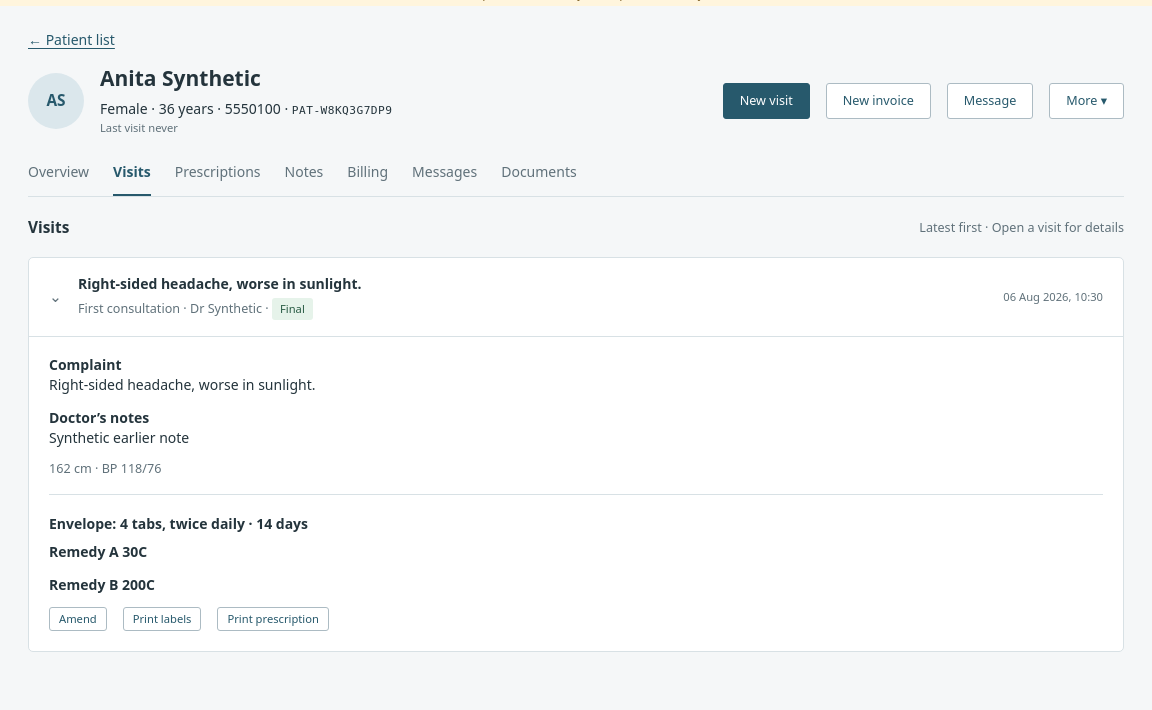
Test case: writing a visit › adds an amendment beside a finalised visit
The image size is (1152, 710).
(page scrolled)
Click the button "Amend" at (78, 619), box x1=49 y1=607 x2=107 y2=631
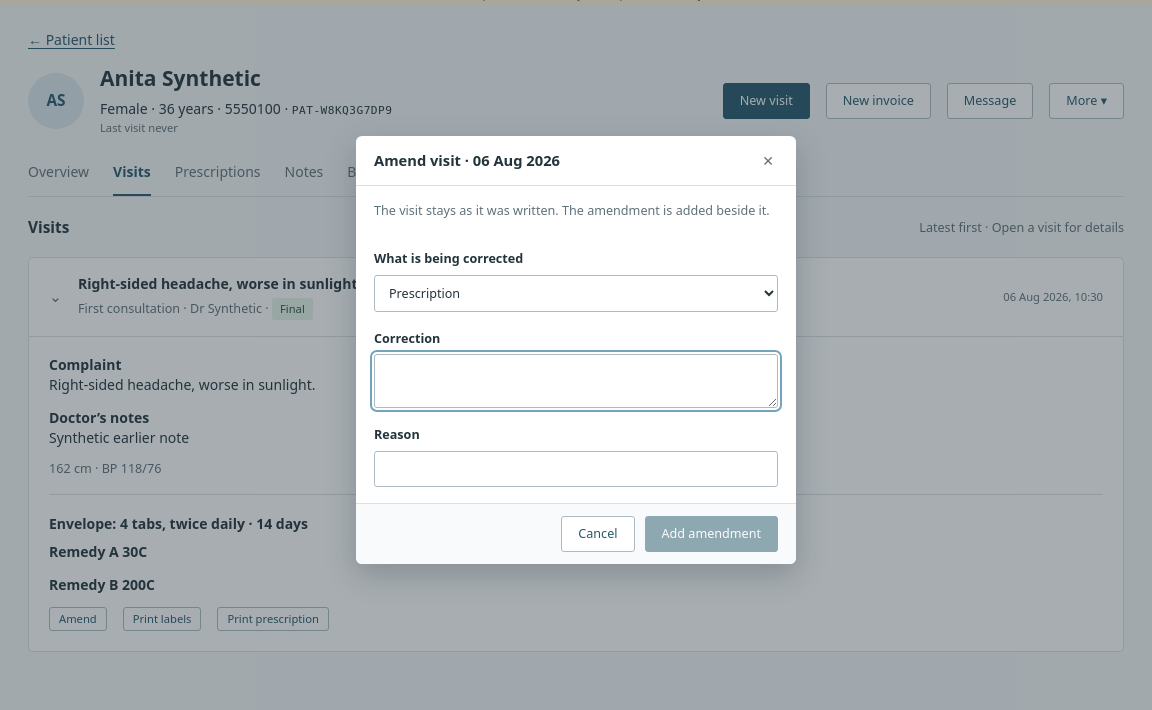
Expected: the button "Add amendment" is disabled, x1=644 y1=516 x2=778 y2=552
Type "Potency should read 30C." into the text box labelled "Correction" at (576, 381), box x1=374 y1=354 x2=778 y2=408
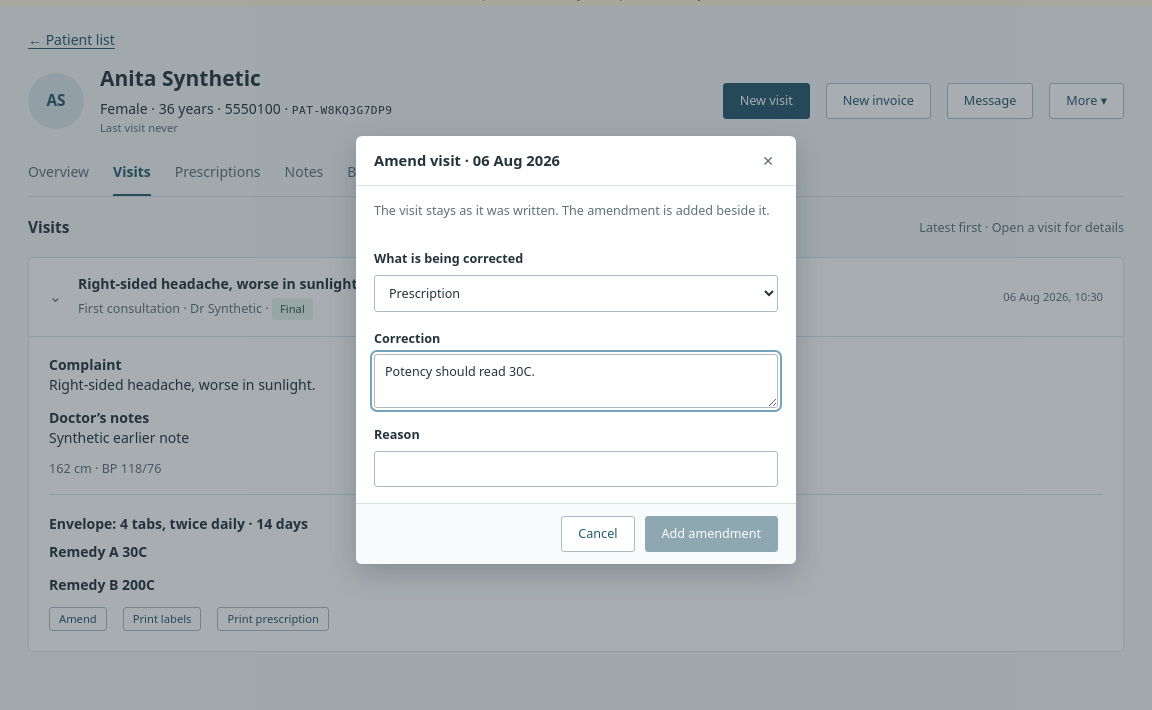
Type "Typing mistake" into the field labelled "Reason" at (576, 469), box x1=374 y1=451 x2=778 y2=487
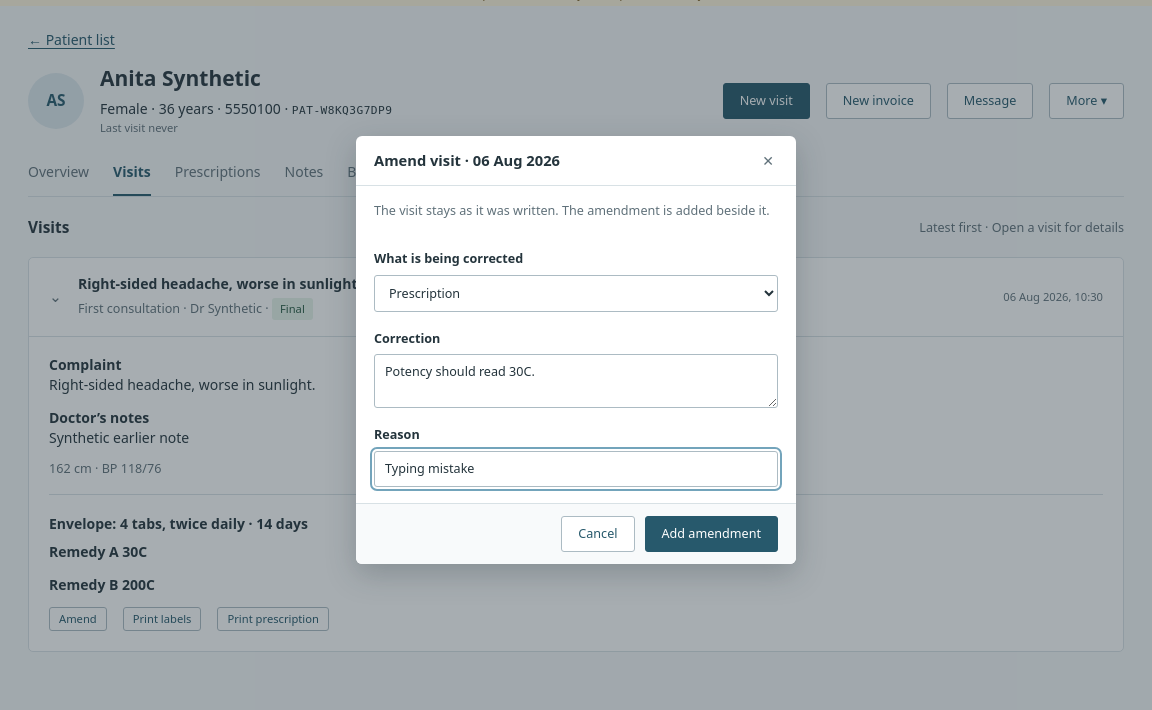
Click the button "Add amendment" at (711, 534), box x1=644 y1=516 x2=778 y2=552
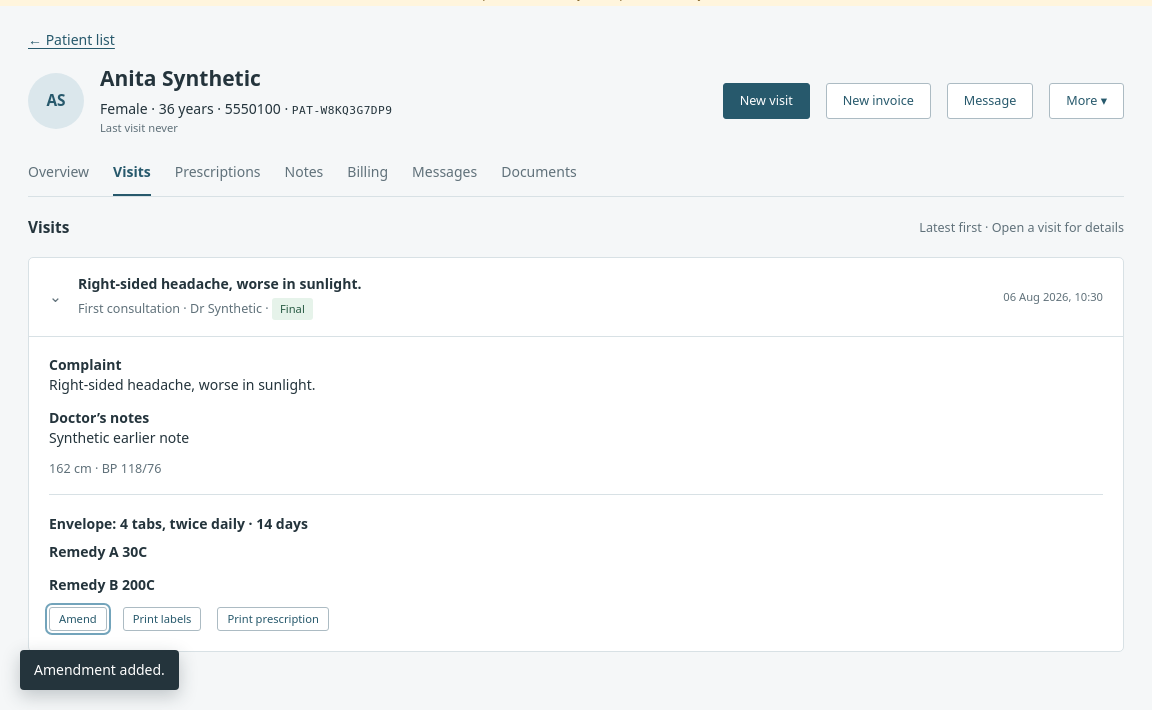
Expected: the text "Amendment added." is shown, x1=34 y1=660 x2=165 y2=680
